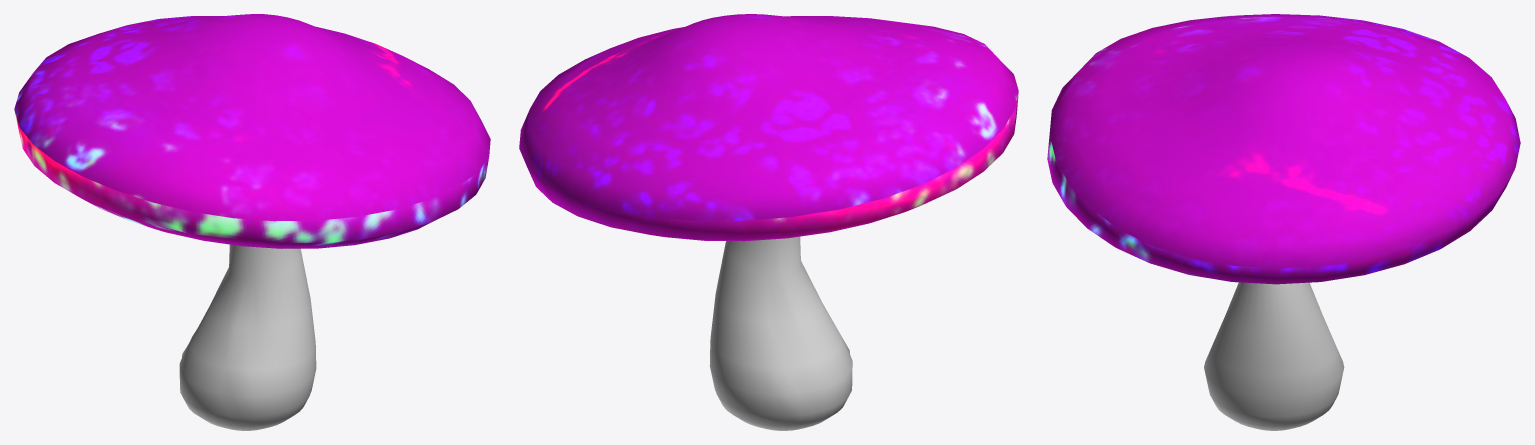
Rendered from mushroom_dan.glb.
The picture shows the model from 3 angles, left to right: view 1: azimuth 30°, elevation 25°; view 2: azimuth 150°, elevation 25°; view 3: azimuth 270°, elevation 25°; orthographic projection. The views are drawn at different scales.
Parts seen in each view (by area): view 1: Mushs; view 2: Mushs; view 3: Mushs.
Part boxes in pixels (x1,y1,x2,y2): Mushs: (14,14,490,430); Mushs: (519,14,1018,430); Mushs: (1047,14,1520,430).
Size of the model in its own units: 6.99 by 6.14 by 7.01.
